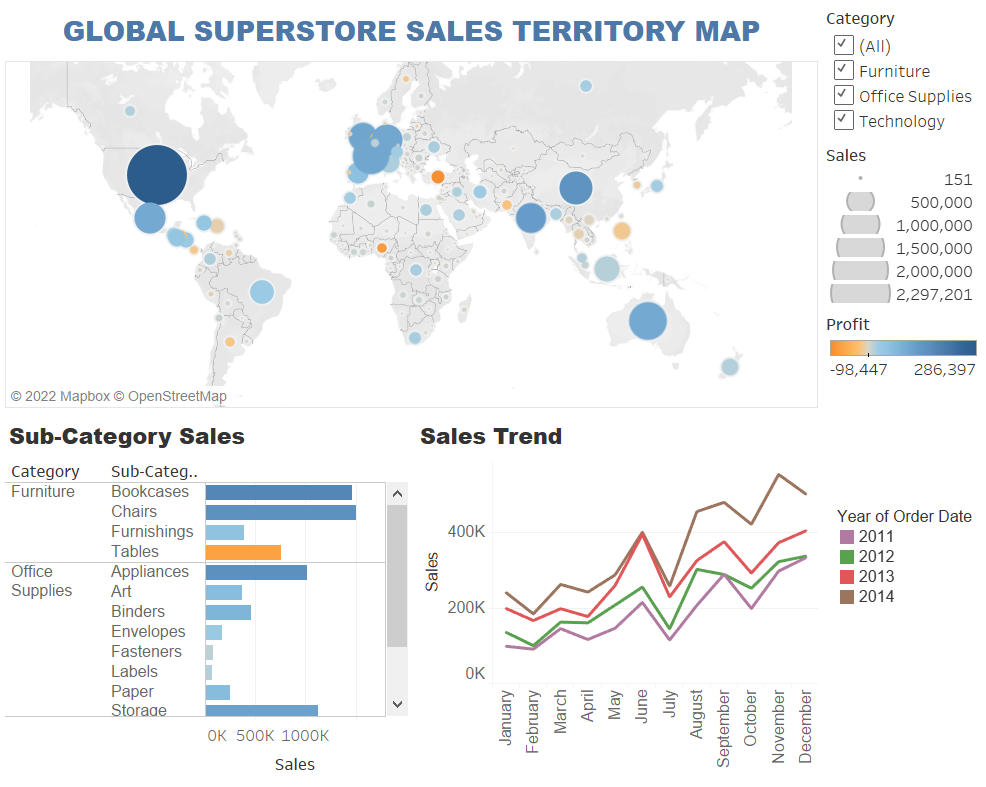

What the dashboard file says about the page in this screenshot:
{"tool":"tableau","page":{"name":"Dashboard","canvas":[1000,800],"ordinal":0},"visuals":[{"type":"worksheet","title":"Peta Profit","mark":"Automatic","box":[8,8,821,409]},{"type":"filter","title":"Peta Profit","param":"[federated.16cdrb01jt3yzn1c2xxu81foo8x1].[none:Category:nk]","box":[829,8,163,137]},{"type":"legend","title":"Peta Profit","param":"[federated.16cdrb01jt3yzn1c2xxu81foo8x1].[sum:Sales:qk]","box":[829,145,163,169]},{"type":"legend","title":"Peta Profit","param":"[federated.16cdrb01jt3yzn1c2xxu81foo8x1].[sum:Profit:qk]","box":[829,314,163,76]},{"type":"worksheet","title":"Penjualan Sub Kategori","mark":"Automatic","rows":["Category","Sub-Category"],"cols":["Sales"],"box":[8,417,410.5,375]},{"type":"worksheet","title":"Tren Penjualan","mark":"Automatic","rows":["Sales"],"cols":["Order Date"],"box":[418.5,417,410.5,375]},{"type":"legend","title":"Tren Penjualan","param":"[federated.16cdrb01jt3yzn1c2xxu81foo8x1].[yr:Order Date:ok]","box":[844,513,140,115]}]}

Visuals, with their boxes in screenshot pixels (x1, y1, x2, y2), scaled from the page's 1000x800 canvas onto the 986x787 screenshot:
"Peta Profit" worksheet: (x1=8, y1=8, x2=817, y2=410)
"Peta Profit" filter: (x1=817, y1=8, x2=978, y2=143)
"Peta Profit" legend: (x1=817, y1=143, x2=978, y2=309)
"Peta Profit" legend: (x1=817, y1=309, x2=978, y2=384)
"Penjualan Sub Kategori" worksheet: (x1=8, y1=410, x2=413, y2=779)
"Tren Penjualan" worksheet: (x1=413, y1=410, x2=817, y2=779)
"Tren Penjualan" legend: (x1=832, y1=505, x2=970, y2=618)
